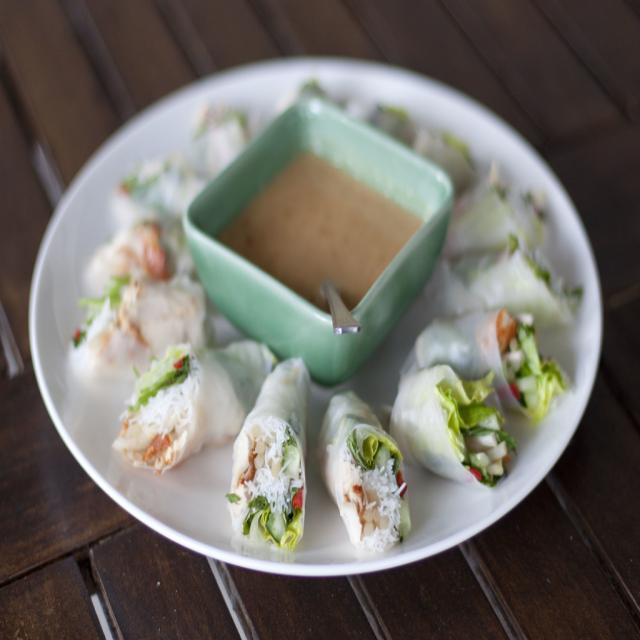non-organic waste: (22, 48, 607, 579)
